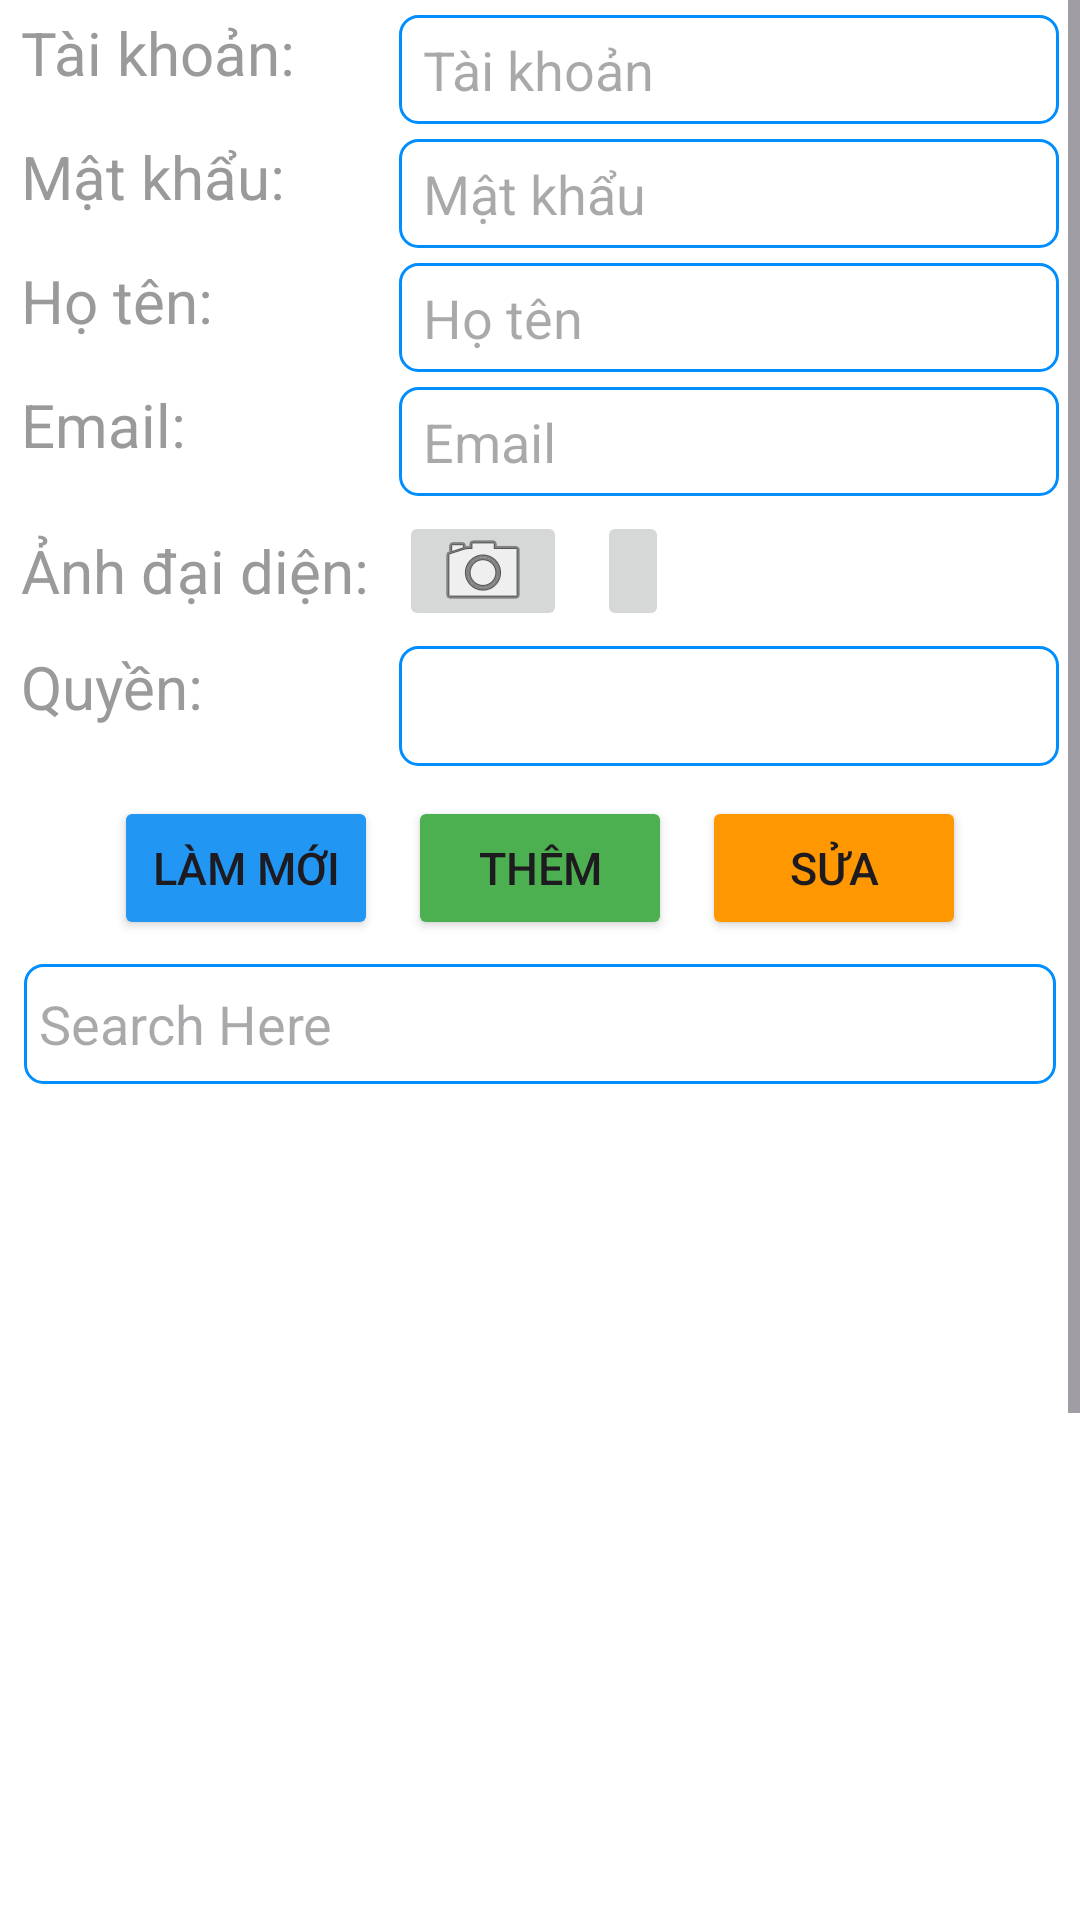

Icon bounding boxes for this 1080×1920 phone screenshot, format (x1, y1, x2, y2):
camera: (411, 529, 555, 613)
